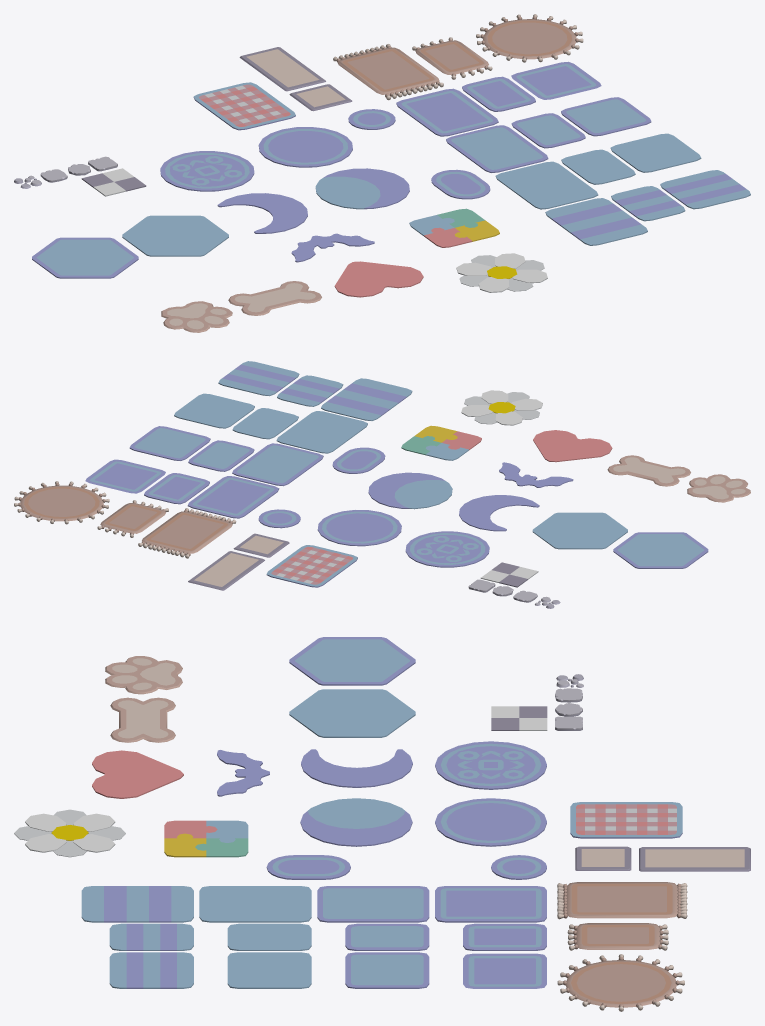
Rendered from carpets.glb.
The picture shows the model from 3 angles, top to bottom: view 1: azimuth 30°, elevation 25°; view 2: azimuth 150°, elevation 25°; view 3: azimuth 270°, elevation 25°; orthographic projection. The views are drawn at different scales.
Parts seen in each view (by area): view 1: carpet-tasseled-round, carpet-hexagon, carpet-hexagon-border, carpet-tasseled-rectangle, carpet-round-large-moon, carpet-round-large, carpet-round-large-decorative, carpet-rectangle-solid, carpet-rectangle-line (%thumbnail), carpet-rectangle-stripes, carpet-rectangle-border-picnic, carpet-rectangle-border (+21 smaller); view 2: carpet-tasseled-round, carpet-hexagon, carpet-hexagon-border, carpet-tasseled-rectangle, carpet-round-large-decorative, carpet-round-large-moon, carpet-round-large, carpet-rectangle-border, carpet-rectangle-line (%thumbnail), carpet-rectangle-solid, carpet-rectangle-stripes, carpet-rectangle-border-picnic (+21 smaller); view 3: carpet-tasseled-round, carpet-hexagon-border, carpet-hexagon, carpet-tasseled-rectangle, carpet-round-large-moon, carpet-round-large, carpet-round-large-decorative, carpet-rectangle-border, carpet-rectangle-border-picnic, carpet-rectangle-solid, carpet-rectangle-stripes, carpet-rectangle-line (%thumbnail) (+21 smaller).
Boxes of the visible parts, x1=… form: carpet-tasseled-round: x1=476, y1=14, x2=583, y2=62; carpet-hexagon: x1=122, y1=215, x2=228, y2=256; carpet-hexagon-border: x1=32, y1=237, x2=138, y2=278; carpet-tasseled-rectangle: x1=333, y1=44, x2=443, y2=100; carpet-round-large-moon: x1=315, y1=168, x2=409, y2=209; carpet-round-large: x1=258, y1=127, x2=352, y2=167; carpet-round-large-decorative: x1=160, y1=151, x2=254, y2=191; carpet-rectangle-solid: x1=495, y1=161, x2=598, y2=209; carpet-rectangle-line (%thumbnail): x1=396, y1=88, x2=498, y2=136; carpet-rectangle-stripes: x1=545, y1=198, x2=647, y2=245; carpet-rectangle-border-picnic: x1=193, y1=82, x2=295, y2=130; carpet-rectangle-border: x1=446, y1=125, x2=548, y2=172; carpet-tasseled-round: x1=14, y1=481, x2=109, y2=524; carpet-hexagon: x1=532, y1=512, x2=627, y2=549; carpet-hexagon-border: x1=613, y1=532, x2=708, y2=568; carpet-tasseled-rectangle: x1=138, y1=508, x2=236, y2=558; carpet-round-large-decorative: x1=405, y1=531, x2=489, y2=567; carpet-round-large-moon: x1=368, y1=472, x2=452, y2=509; carpet-round-large: x1=317, y1=510, x2=401, y2=546; carpet-rectangle-border: x1=232, y1=443, x2=323, y2=486; carpet-rectangle-line (%thumbnail): x1=187, y1=476, x2=279, y2=518; carpet-rectangle-solid: x1=276, y1=411, x2=367, y2=453; carpet-rectangle-stripes: x1=321, y1=378, x2=412, y2=420; carpet-rectangle-border-picnic: x1=266, y1=545, x2=357, y2=587; carpet-tasseled-round: x1=557, y1=954, x2=684, y2=1011; carpet-hexagon-border: x1=289, y1=637, x2=415, y2=685; carpet-hexagon: x1=289, y1=689, x2=415, y2=737; carpet-tasseled-rectangle: x1=557, y1=882, x2=687, y2=919; carpet-round-large-moon: x1=300, y1=798, x2=412, y2=846; carpet-round-large: x1=435, y1=798, x2=546, y2=846; carpet-round-large-decorative: x1=435, y1=741, x2=546, y2=789; carpet-rectangle-border: x1=317, y1=886, x2=429, y2=922; carpet-rectangle-border-picnic: x1=570, y1=802, x2=682, y2=838; carpet-rectangle-solid: x1=199, y1=886, x2=311, y2=922; carpet-rectangle-stripes: x1=81, y1=886, x2=193, y2=922; carpet-rectangle-line (%thumbnail): x1=435, y1=886, x2=546, y2=922.
Size of the model in its own units: 15.73 by 0.1142 by 13.14.
